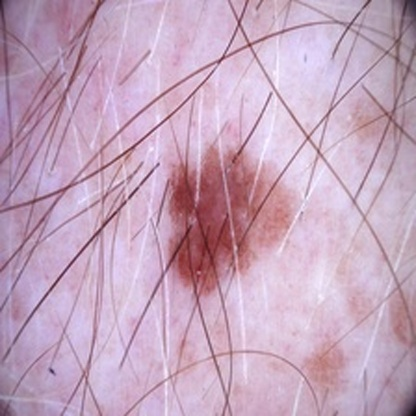benign: (173, 159, 284, 275)
